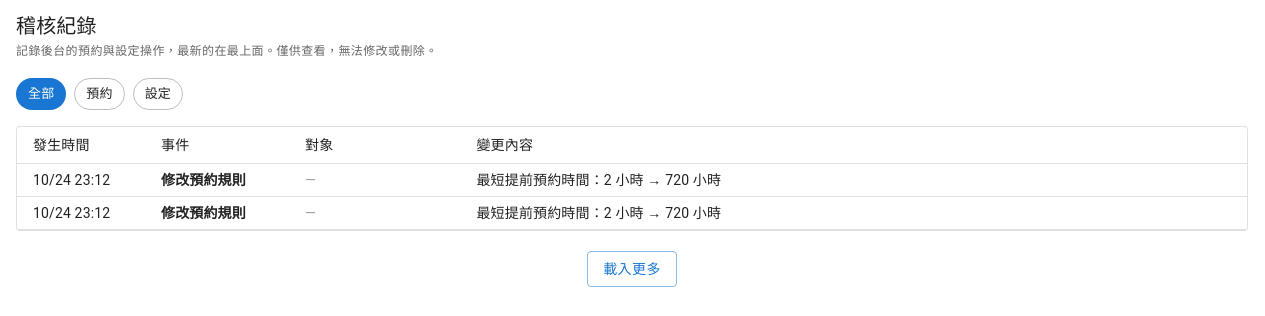
AuditLogView › 載入更多 › 載入更多失敗：既有列保留、顯示行內錯誤；重試用同一個游標，成功後附加
Expected: the table is shown, [17,127,1247,230]
Step 1. Click the button "載入更多" → (632,269), box [587,251,677,287]
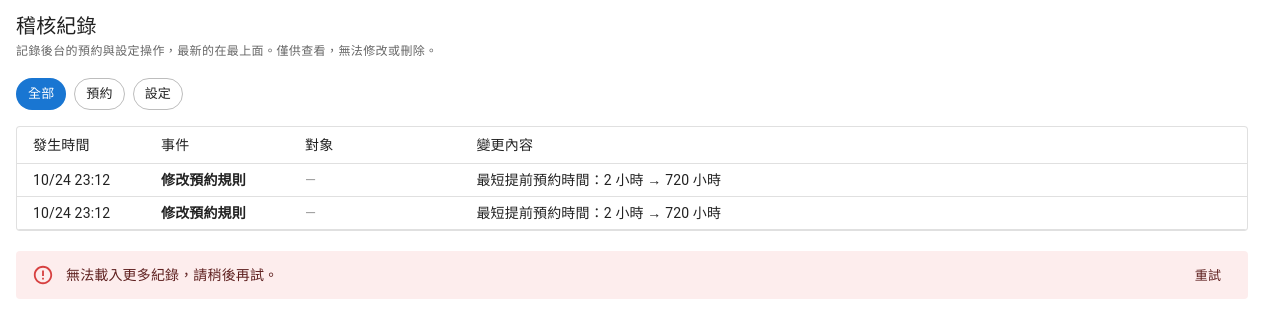
Expected: the number of rows is 3, [17,127,1247,163]; [17,163,1247,196]; [17,196,1247,229]
Expected: the text "無法載入更多紀錄，請稍後再試。" is shown, [66,267,278,283]
Step 2. Click the button "重試" → (1208,276), box [1176,261,1240,292]
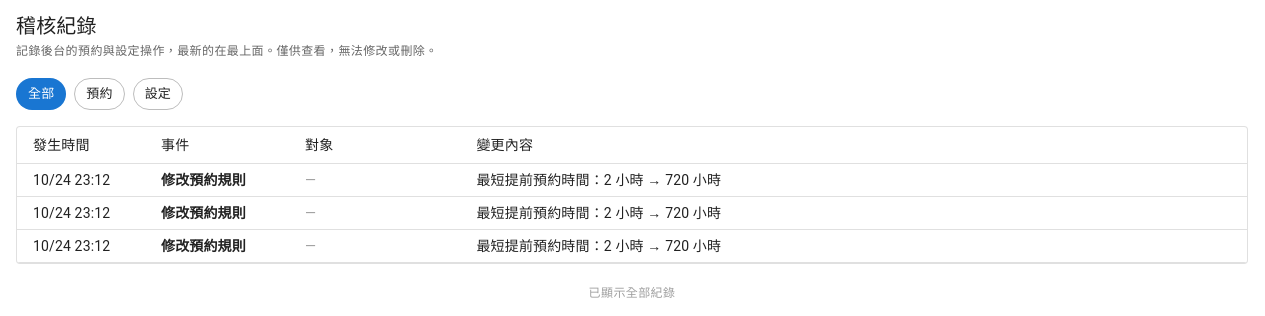
Expected: the number of rows is 4, [17,127,1247,163]; [17,163,1247,196]; [17,196,1247,229]; [17,229,1247,262]
Expected: the text "無法載入更多紀錄，請稍後再試。" is gone
